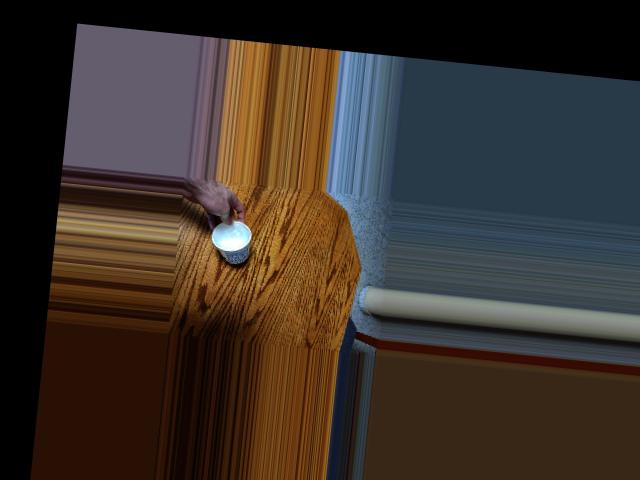cotage: (211, 215, 251, 263)
